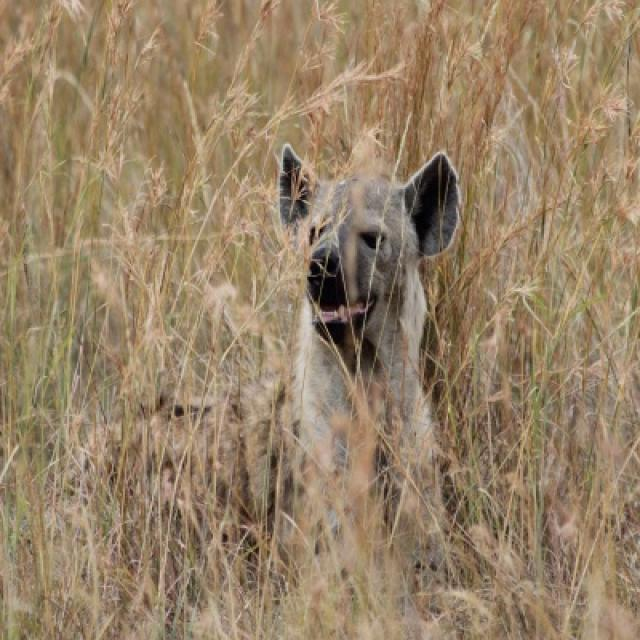hyena: (71, 143, 457, 590)
